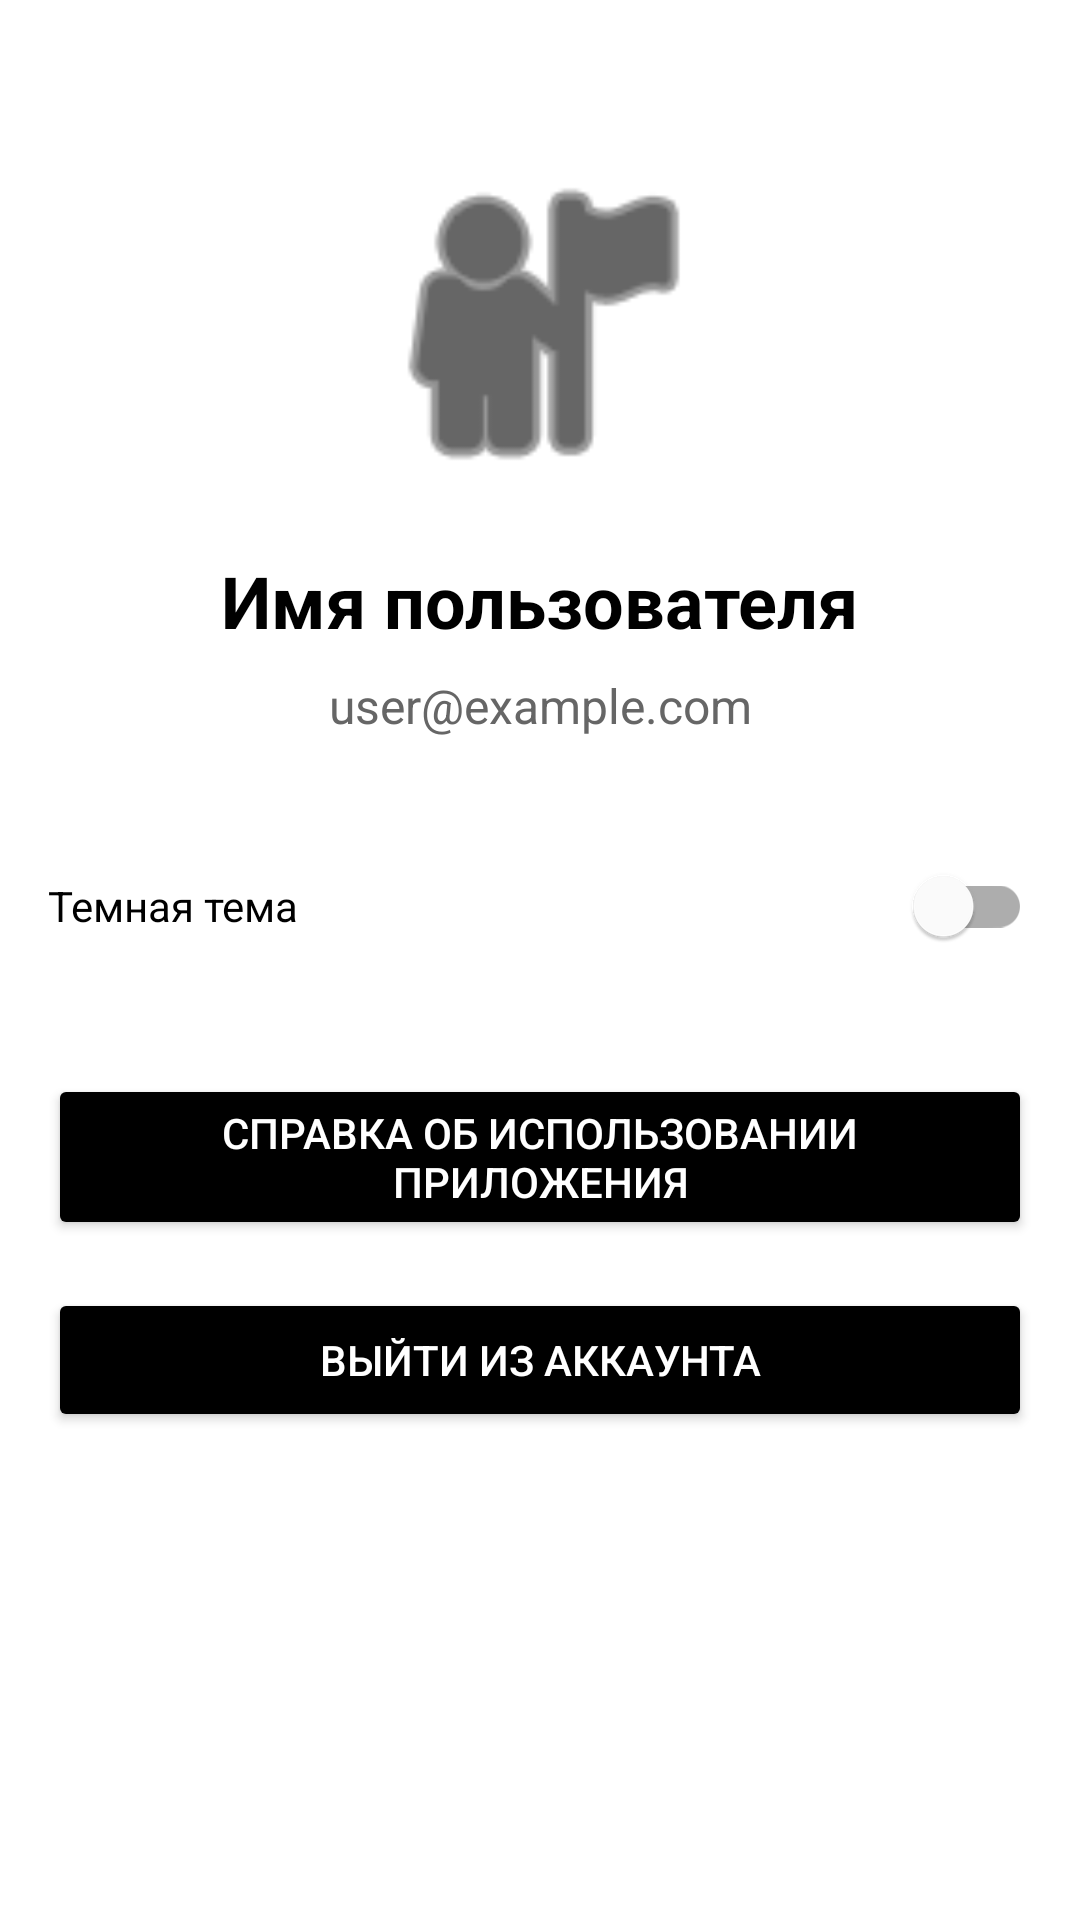

Named icons in this screenshot (1080 × 1920) and their bounding boxes, bbox=[x1, y1, x2, y2]:
myplaces: bbox=[408, 189, 679, 459]
